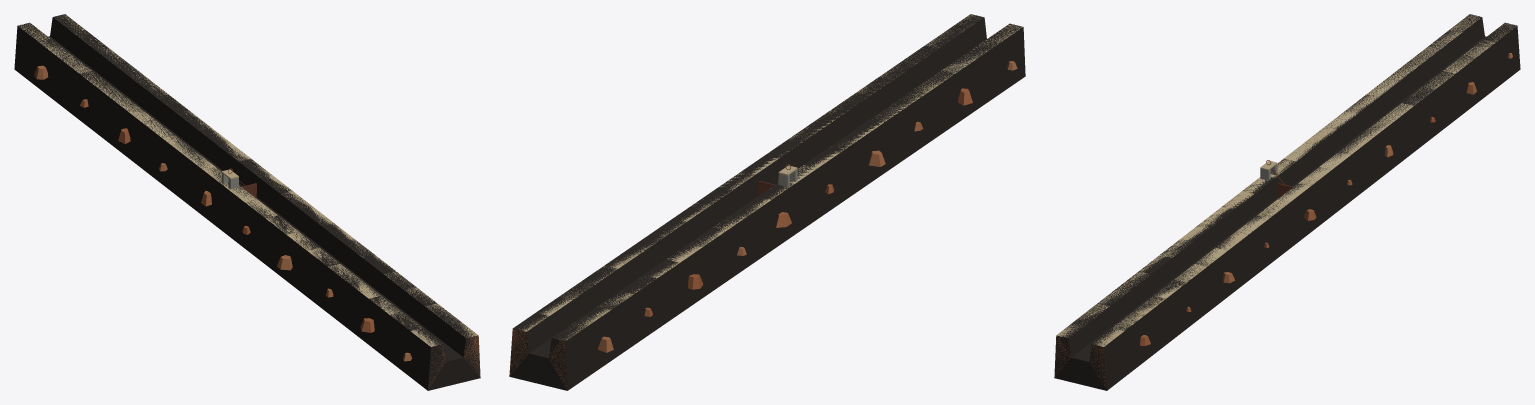
File: canal_lip.glb
3 renders of one model, left to right at view 1: azimuth 30°, elevation 25°; view 2: azimuth 150°, elevation 25°; view 3: azimuth 330°, elevation 25°, orthographic. The views are drawn at different scales.
Parts seen in each view (by area): view 1: canal_lip-col-col, canal_lip_body; view 2: canal_lip-col-col, canal_lip_body; view 3: canal_lip-col-col, canal_lip_body.
Boxes of the visible parts, x1,y1,x2,y2 form: canal_lip-col-col: (14,14,480,390); canal_lip_body: (18,14,480,388); canal_lip-col-col: (509,14,1025,390); canal_lip_body: (509,14,1022,388); canal_lip-col-col: (1054,14,1520,390); canal_lip_body: (1054,14,1516,388).
Size of the model in its own units: 12.02 by 11.1 by 120.
